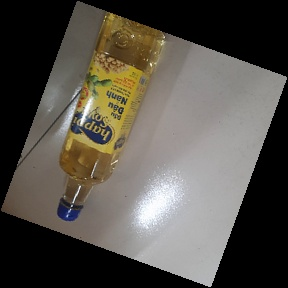Happy Soya: (57, 8, 166, 222)
